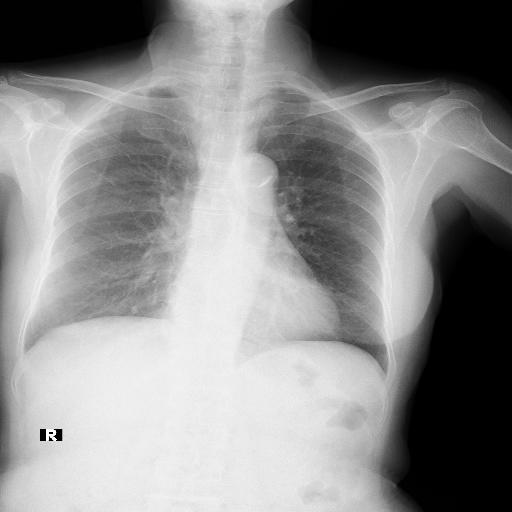Pleural thickening: (74, 63, 140, 93), (288, 80, 332, 112), (12, 334, 26, 352)
